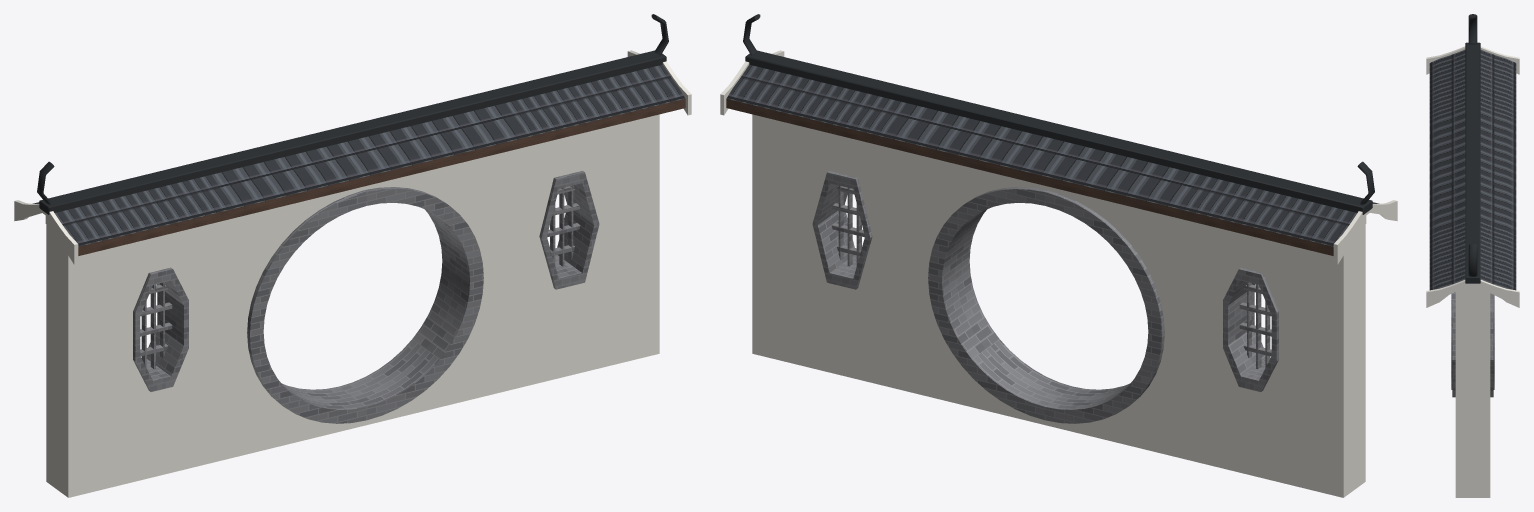
The model's file is build-moon-gate.glb.
The picture shows the model from 3 angles, left to right: view 1: azimuth 30°, elevation 25°; view 2: azimuth 150°, elevation 25°; view 3: azimuth 270°, elevation 25°; orthographic projection. The views are drawn at different scales.
Parts seen in each view (by area): view 1: build-moon-gate-Moon_Gate_Garden_Wall; view 2: build-moon-gate-Moon_Gate_Garden_Wall; view 3: build-moon-gate-Moon_Gate_Garden_Wall.
Part boxes in pixels (<box>): build-moon-gate-Moon_Gate_Garden_Wall: <box>14,14,691,497</box>; build-moon-gate-Moon_Gate_Garden_Wall: <box>720,14,1397,497</box>; build-moon-gate-Moon_Gate_Garden_Wall: <box>1426,14,1519,497</box>.
Size of the model in its own units: 6.01 by 3 by 0.9935.
4 materials, 3 textured.
